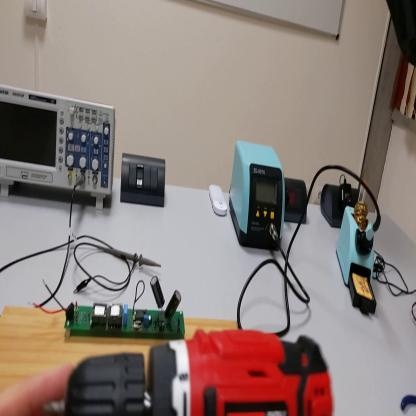electric screwdriver: (67, 330, 338, 416)
hand: (1, 368, 71, 414)
high voltage board: (34, 270, 201, 336)
oscilloscope: (1, 85, 118, 213)
oscilloscope probe tip: (98, 248, 162, 267)
pliers: (401, 396, 415, 413)
socket: (322, 176, 361, 229), (285, 173, 308, 227)
welder base: (339, 176, 384, 318)
welder probe tip: (359, 216, 381, 251)
welder station: (229, 141, 286, 256)
working area: (1, 302, 238, 396)
